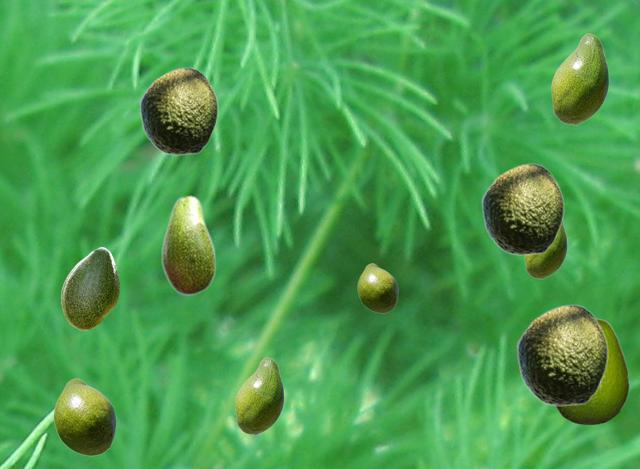avocado: (516, 304, 607, 405), (553, 318, 628, 423), (481, 163, 563, 254), (139, 67, 217, 154), (161, 194, 215, 295), (551, 33, 608, 124), (53, 378, 115, 455), (61, 247, 118, 329), (235, 357, 283, 434), (524, 222, 566, 278), (357, 263, 397, 312)
